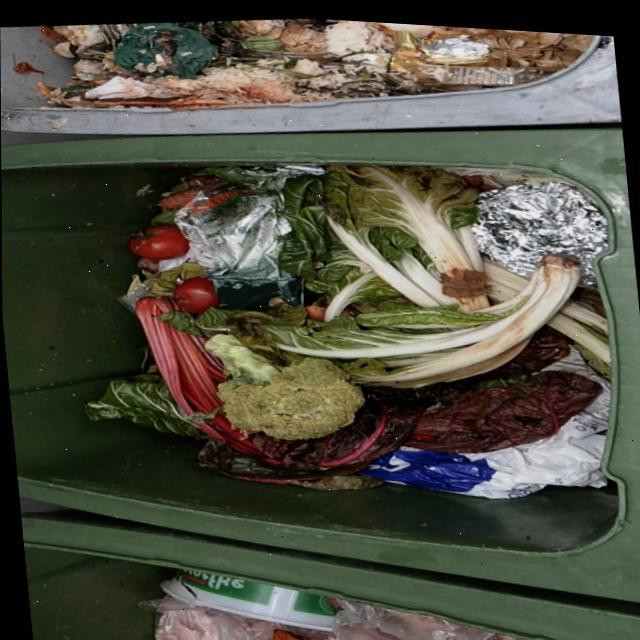Garbage: (84, 159, 610, 492), (36, 14, 592, 108), (138, 566, 548, 640), (10, 61, 42, 74)
Metal: (471, 175, 606, 277), (10, 61, 42, 74)
Plastic: (359, 340, 608, 492), (158, 185, 302, 307), (282, 595, 549, 640), (387, 25, 547, 82), (138, 595, 276, 640)
Plastic_Container: (158, 567, 337, 626)
